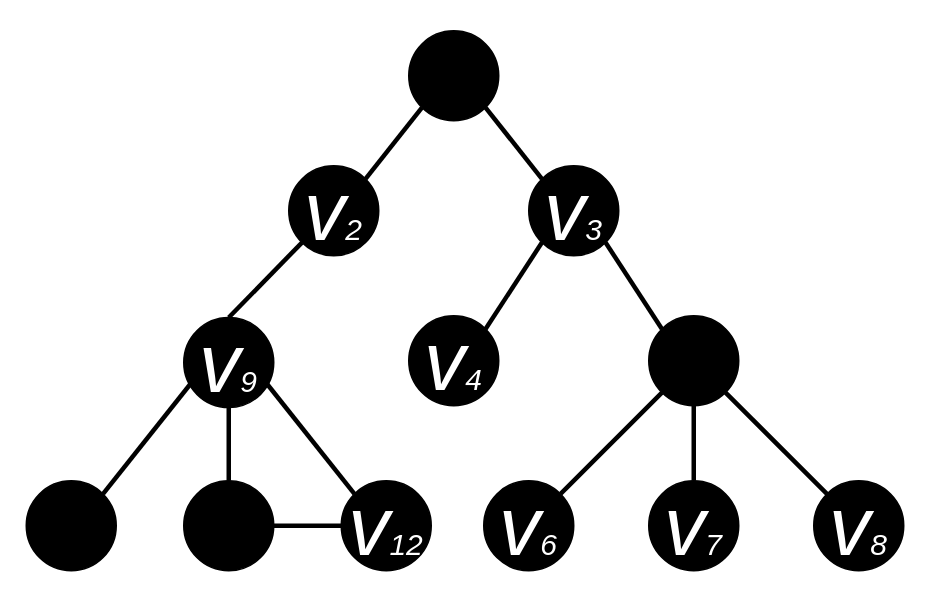
This 930x602 diagram has some shape labels left out. The box of each missing label's shape, as (x1, y1, x2, y2) in pixels:
v 1: (407, 29, 499, 121)
v 10: (25, 479, 116, 571)
v 11: (182, 479, 274, 571)
v 5: (647, 314, 739, 406)
